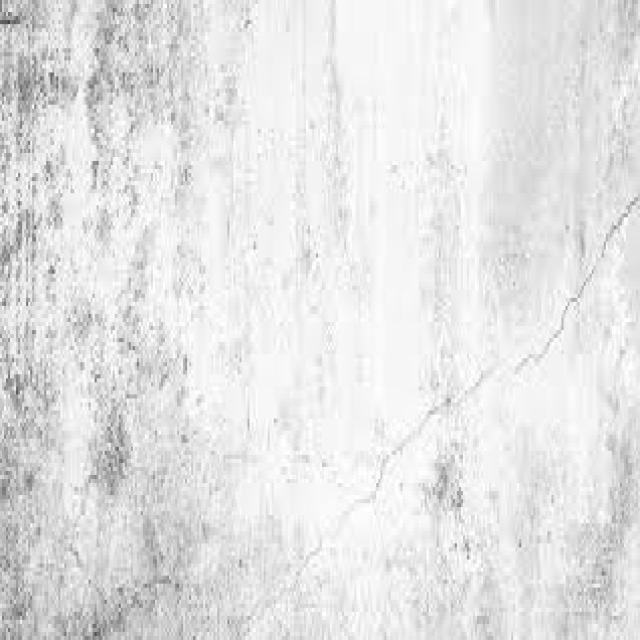crack: (257, 191, 639, 613)
